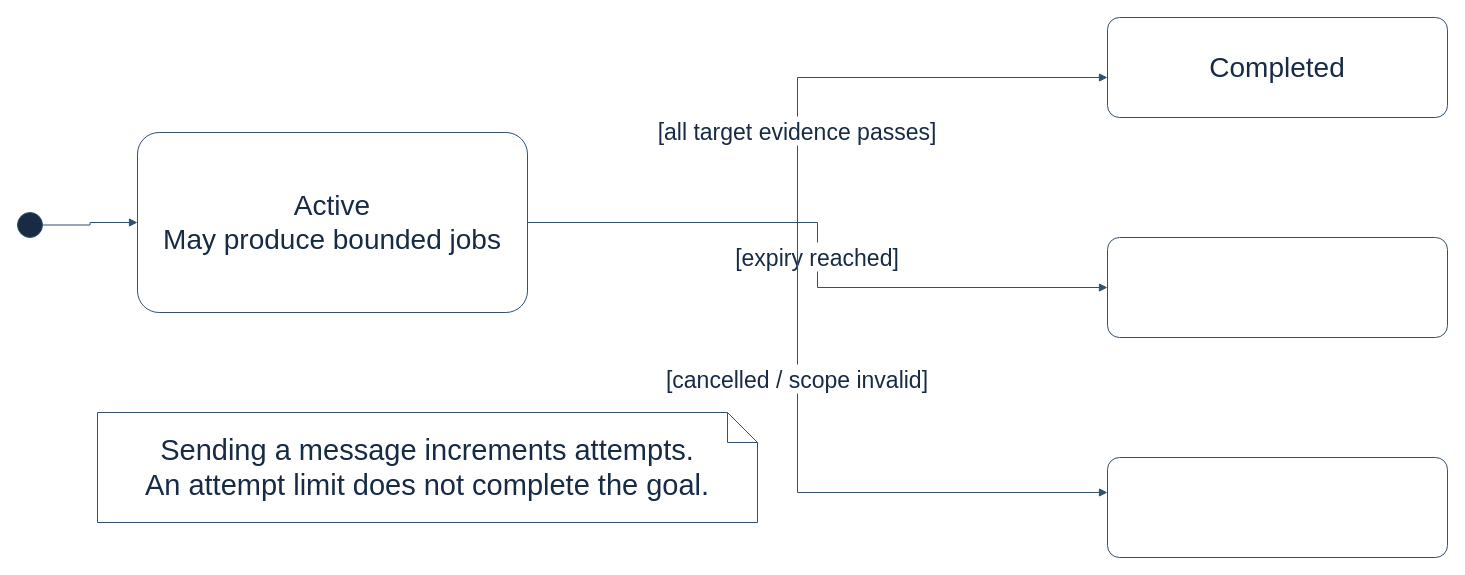
Image size: 1465x575. Some labels were removed from this diagram. Here are the shapes that lost their labels. From the top down, the centre of each, then its label:
the point at 1277,287: Expired
the point at 1277,507: Cancelled
